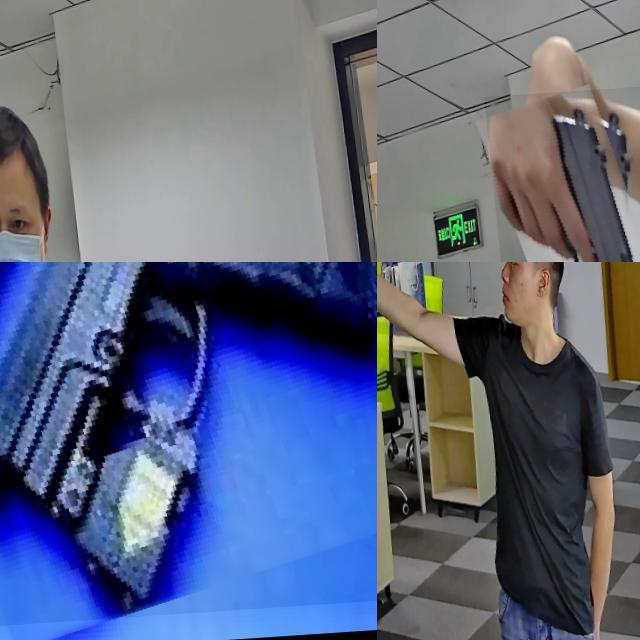gun-knife-thesis - v11 Yolov5 augmented: (0, 262, 377, 632), (478, 91, 640, 262), (0, 0, 57, 185), (377, 262, 409, 324)
